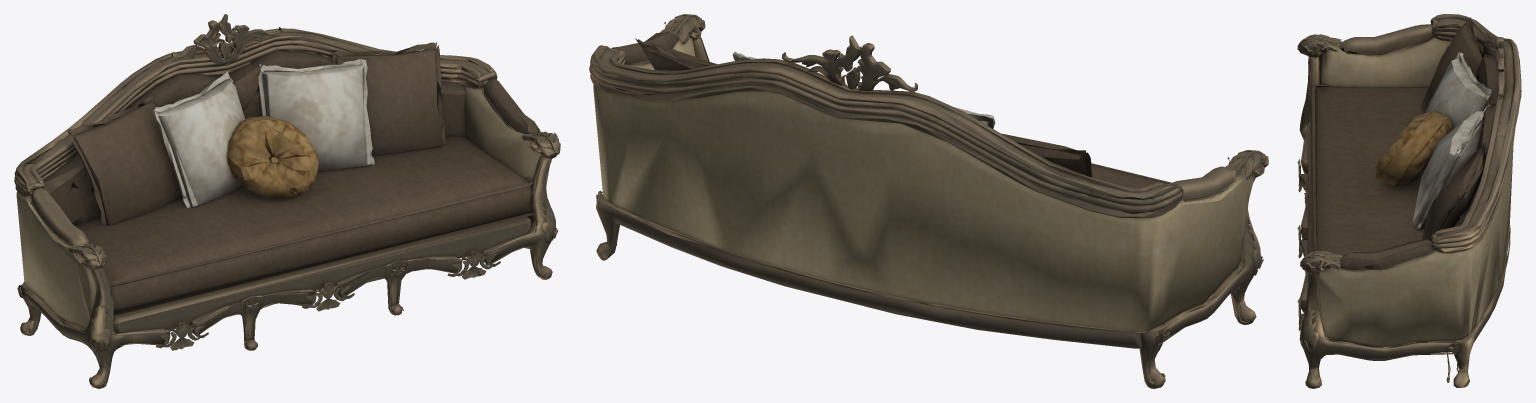
Rendered from Three_Seat_Multi_person_sofa_d62be2d8-a09a-5045-a75b-d01fe795db91.glb.
The picture shows the model from 3 angles, left to right: view 1: azimuth 30°, elevation 25°; view 2: azimuth 150°, elevation 25°; view 3: azimuth 270°, elevation 25°; orthographic projection. The views are drawn at different scales.
Visible parts, largest first — view 1: raw_model.obj; view 2: raw_model.obj; view 3: raw_model.obj.
Boxes of the visible parts, x1=… form: raw_model.obj: x1=14, y1=14, x2=560, y2=388; raw_model.obj: x1=589, y1=14, x2=1268, y2=388; raw_model.obj: x1=1297, y1=14, x2=1521, y2=388.
Size of the model in its own units: 2.02 by 0.9893 by 0.8314.
1 material, 1 textured.
